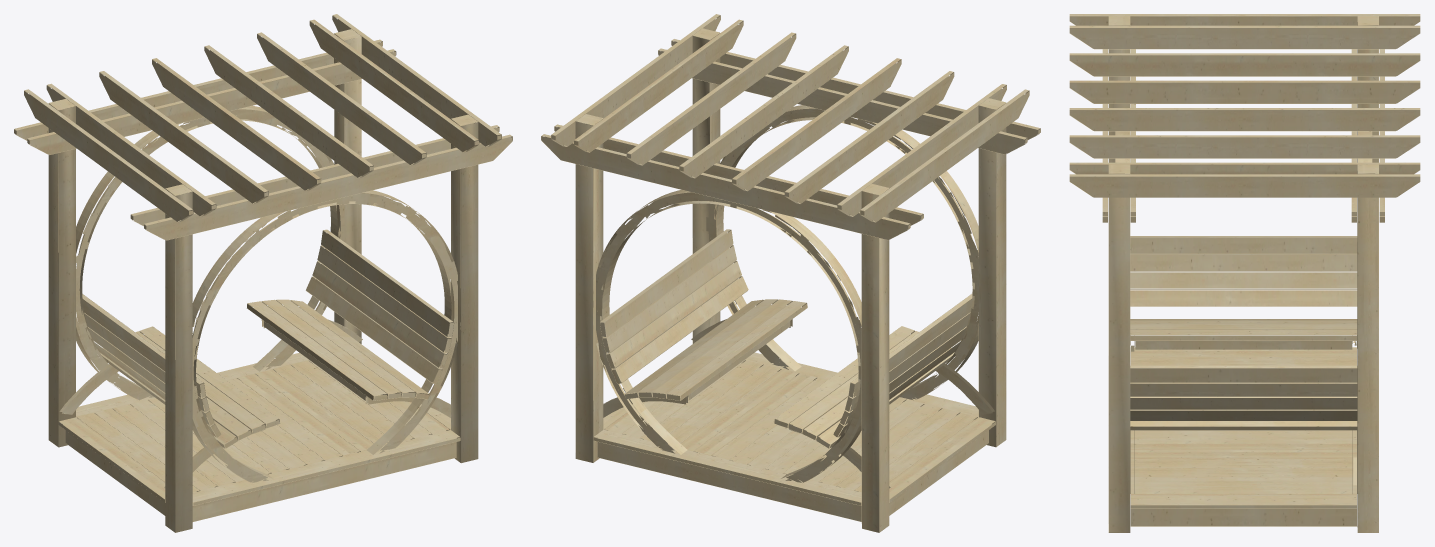
File: pergola.glb
The picture shows the model from 3 angles, left to right: view 1: azimuth 30°, elevation 25°; view 2: azimuth 150°, elevation 25°; view 3: azimuth 270°, elevation 25°; orthographic projection. The views are drawn at different scales.
Visible parts, largest first — view 1: Ring_Terrasse_H2545xL2400xl1740_Material_0; view 2: Ring_Terrasse_H2545xL2400xl1740_Material_0; view 3: Ring_Terrasse_H2545xL2400xl1740_Material_0.
Part boxes in pixels (x1,y1,x2,y2): Ring_Terrasse_H2545xL2400xl1740_Material_0: (14, 14, 512, 532); Ring_Terrasse_H2545xL2400xl1740_Material_0: (541, 14, 1040, 532); Ring_Terrasse_H2545xL2400xl1740_Material_0: (1069, 14, 1420, 532).
Size of the model in its own units: 3.08 by 2.71 by 2.4.
Materials: 1 (1 with a texture image).
